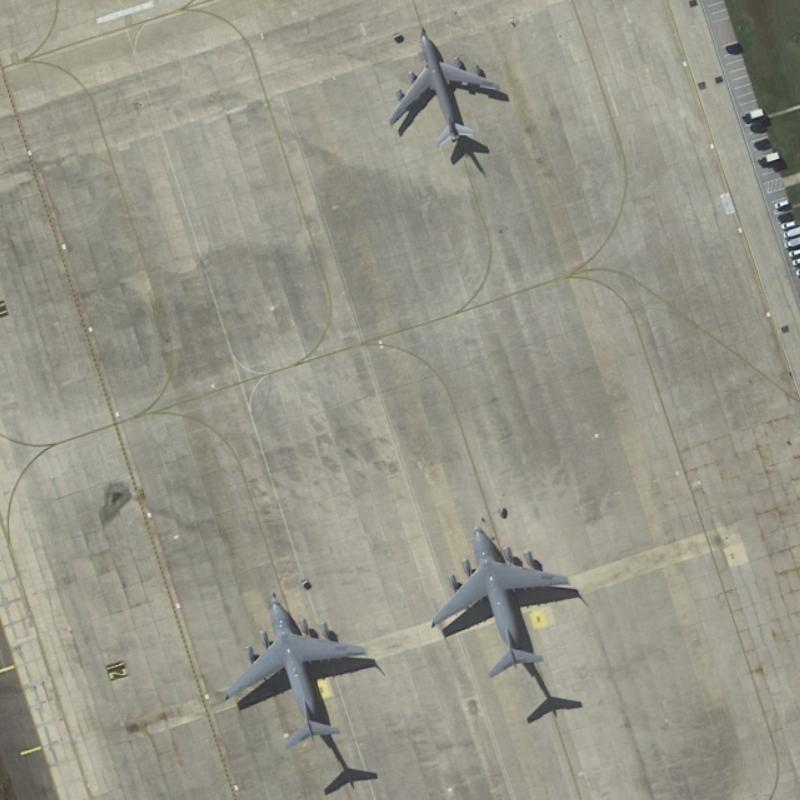A14: (383, 21, 509, 156)
A3: (218, 585, 371, 750), (420, 518, 570, 677)
